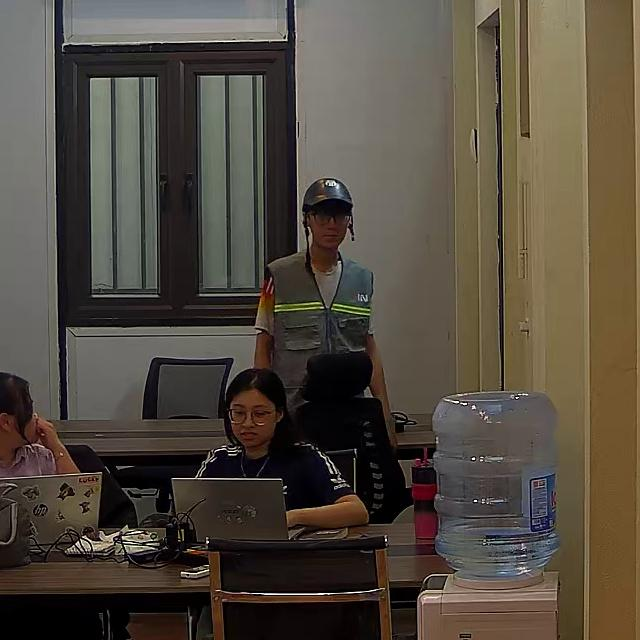helmet: (301, 177, 355, 211)
no_helmet: (222, 367, 296, 453), (0, 373, 36, 446)
none: (193, 441, 354, 519), (0, 442, 56, 479)
vest: (260, 252, 375, 420)
